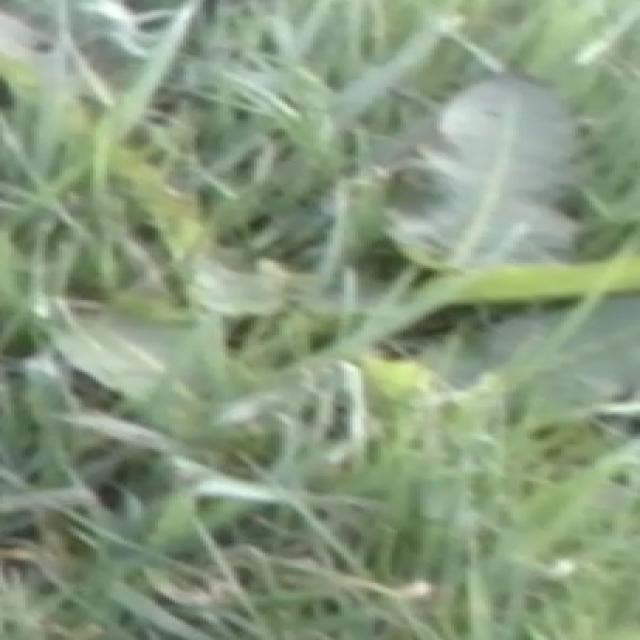organic waste: (265, 72, 640, 470)
